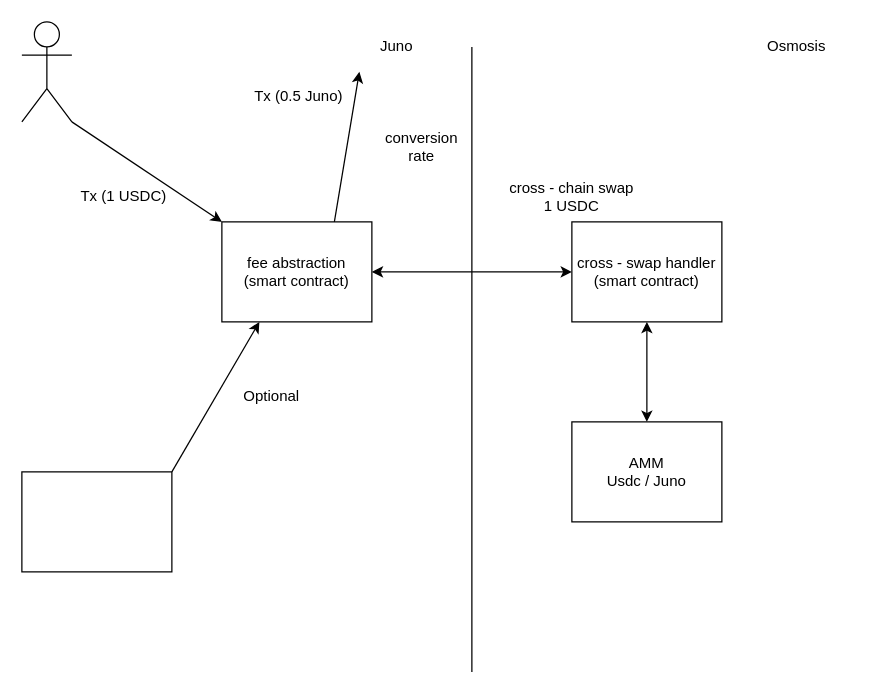
Image size: 894x695. Some labels were removed from this diagram. Here are the shapes that lost their labels. From the top down, the box of each, then its label:
(21, 21, 72, 122): Actor
(21, 471, 172, 572): Osmosis TWAP
